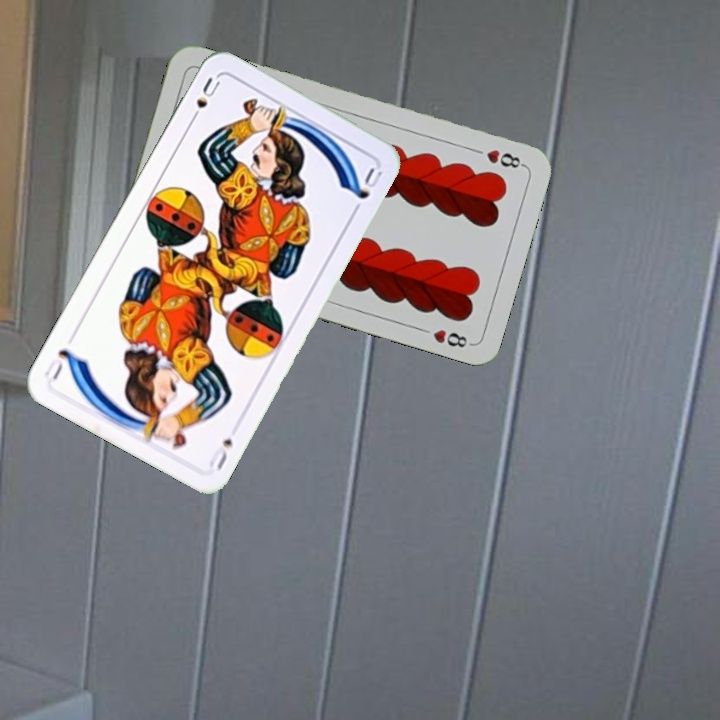H8: (482, 145, 527, 171)
SU: (185, 73, 223, 127), (204, 434, 236, 473)
